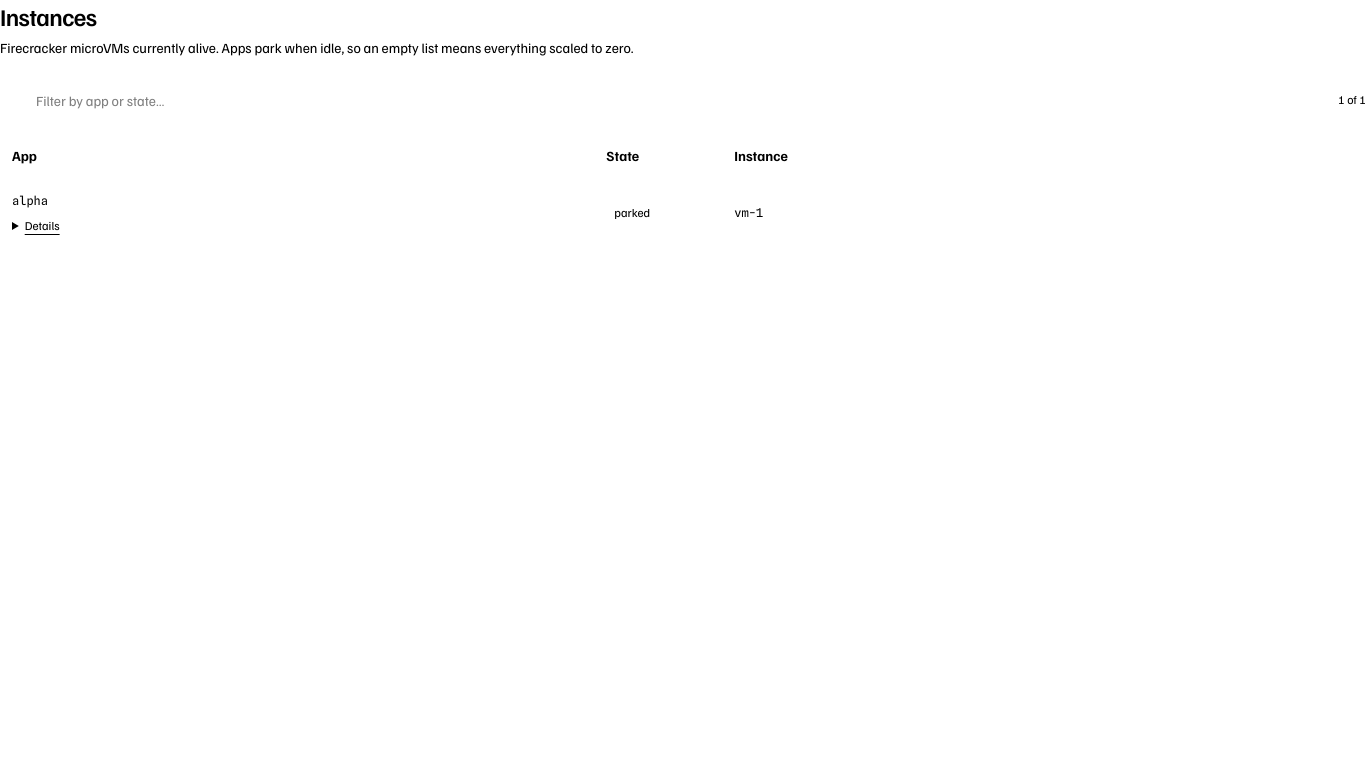
Test: Instance details › reopens with keyboard and retains focus, scroll and URL context after Escape/backdrop dismissal
This screenshot has width=1366, height=768.
Press Enter
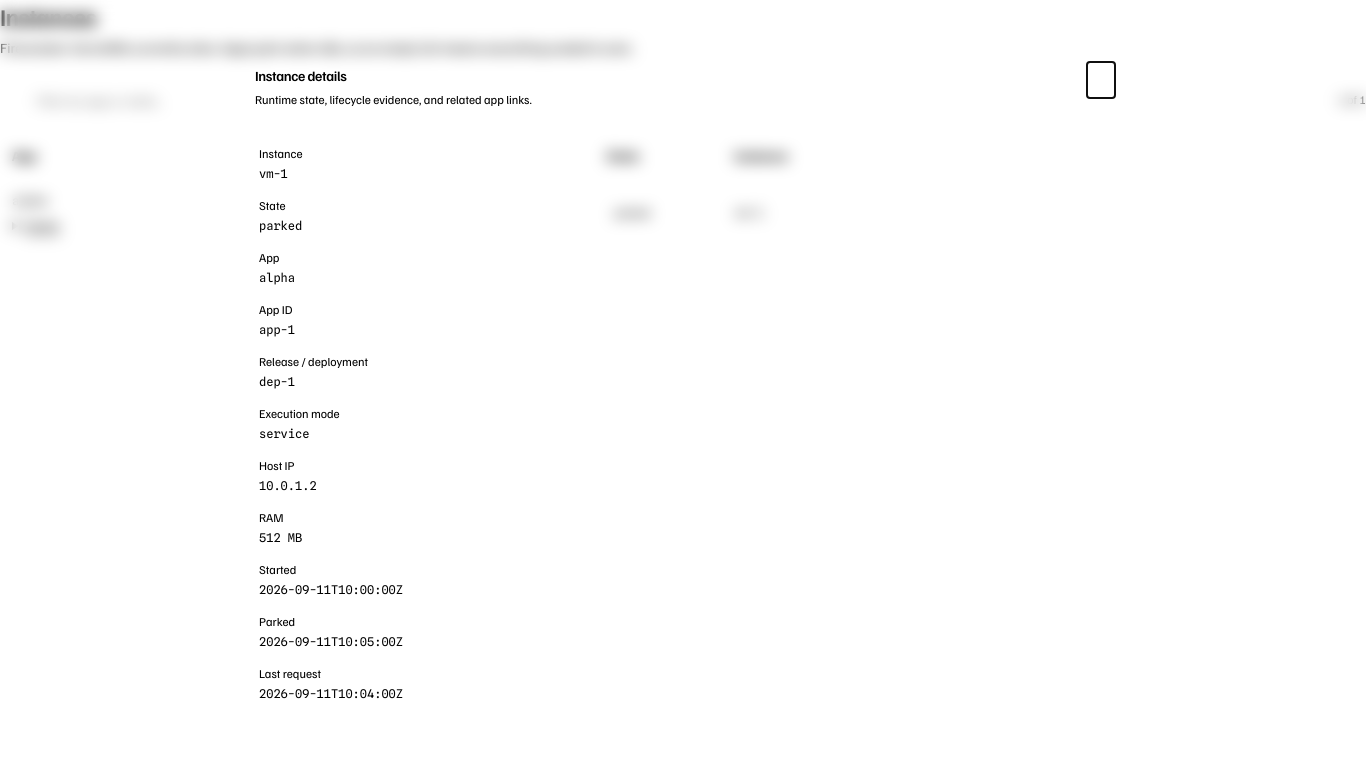
Press Escape
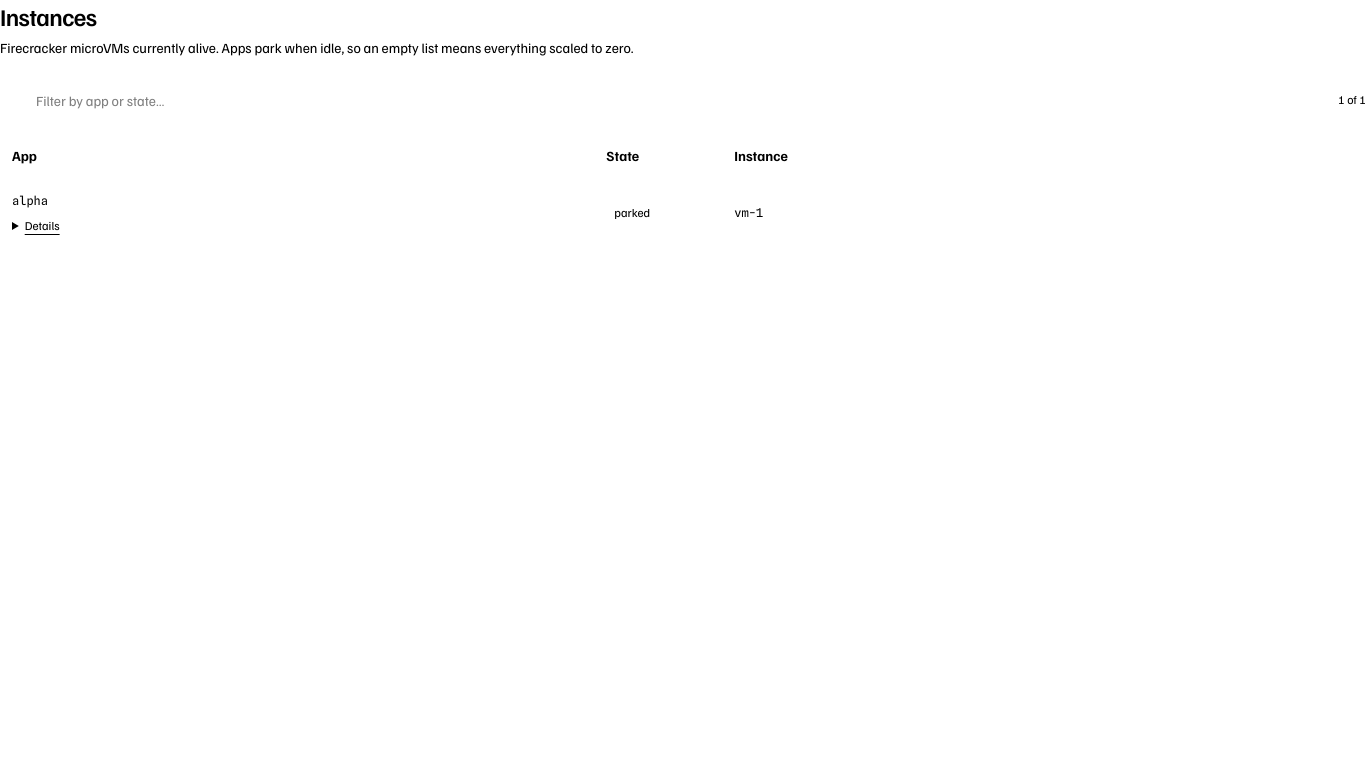
Now the heading "Instance details" is gone
Press Enter
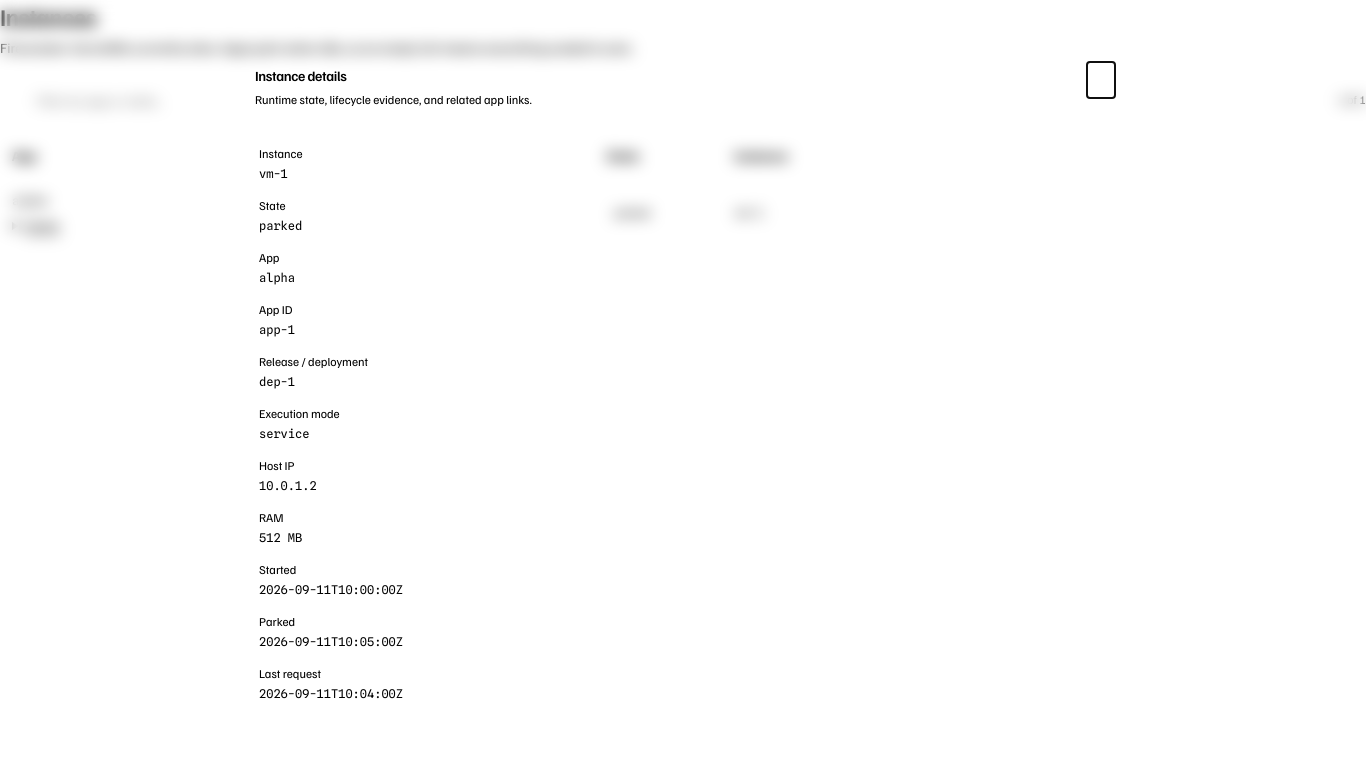
Click the button named "Close dialog": [82, 384] box [0,0,1365,767]
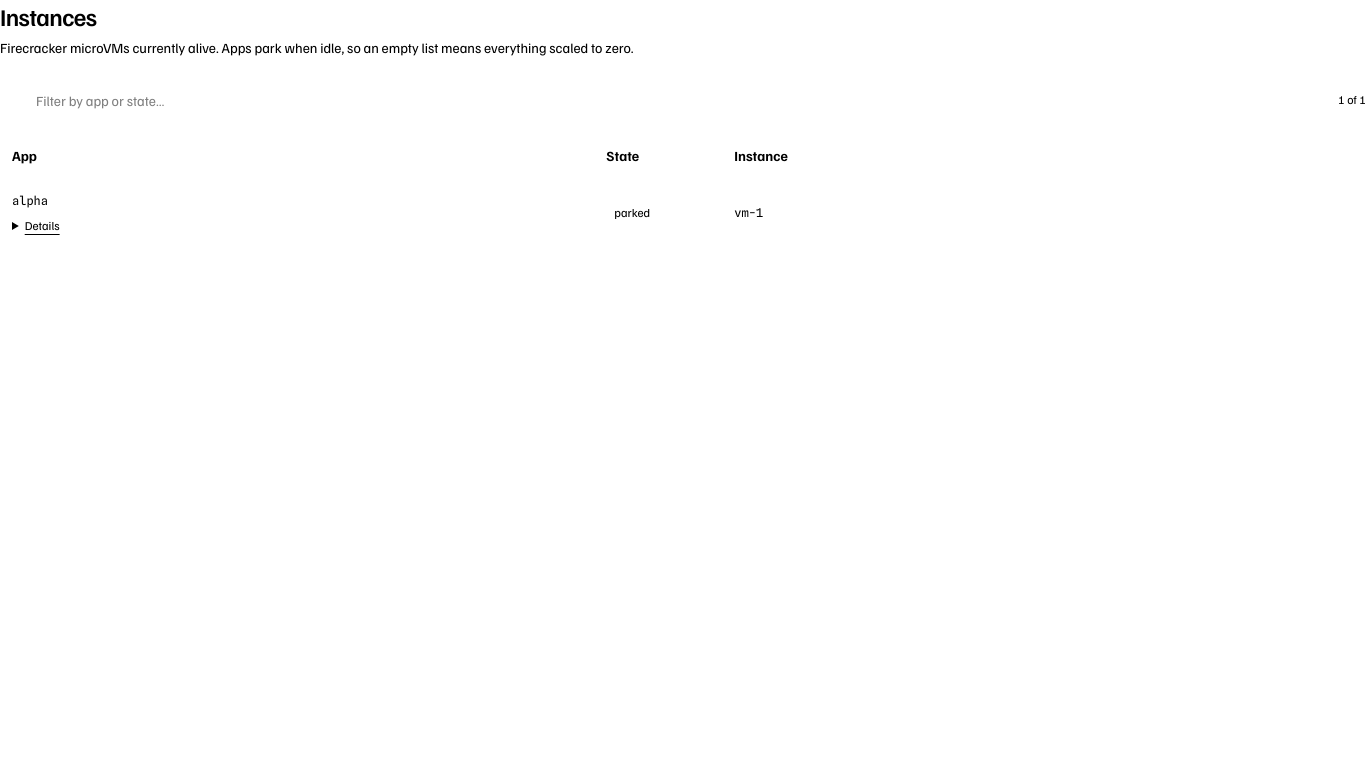
Now the heading "Instance details" is gone
